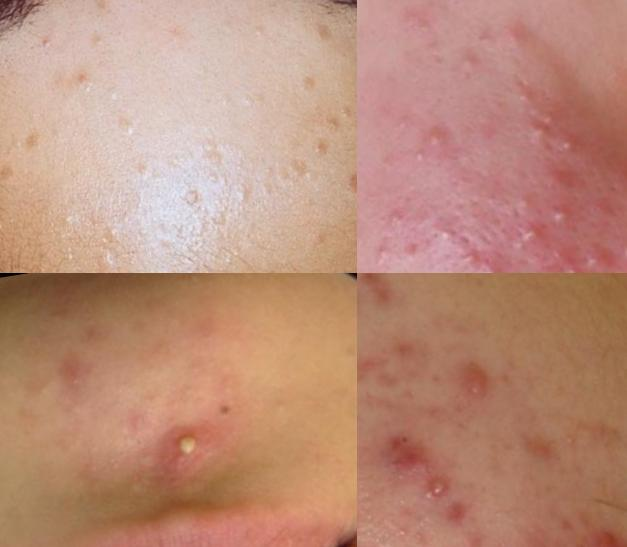flat_wart: (157, 179, 214, 216), (113, 103, 156, 151), (120, 145, 166, 187), (303, 132, 344, 160)
papular: (369, 423, 441, 492), (446, 347, 502, 422), (42, 345, 103, 413), (447, 235, 492, 274), (506, 182, 544, 222), (419, 120, 451, 158), (547, 163, 580, 198), (499, 18, 529, 55), (605, 161, 627, 197)
purulent: (141, 407, 221, 483), (525, 104, 562, 149), (414, 473, 453, 513), (574, 238, 610, 274), (514, 218, 548, 256), (544, 199, 578, 230), (587, 521, 626, 547), (549, 130, 578, 163), (475, 258, 508, 274), (614, 232, 627, 270), (556, 261, 587, 274)
whitehead: (210, 365, 251, 405), (262, 383, 297, 420), (388, 106, 422, 143), (430, 217, 462, 255), (406, 13, 441, 47), (402, 142, 438, 175), (581, 192, 615, 226), (46, 198, 79, 233), (457, 47, 486, 86), (228, 81, 260, 116), (224, 180, 253, 216), (174, 274, 214, 299), (33, 24, 65, 55), (214, 343, 244, 375), (239, 20, 274, 47), (381, 201, 411, 230), (78, 19, 105, 51), (366, 239, 391, 267), (253, 176, 273, 200), (441, 1, 470, 8)
